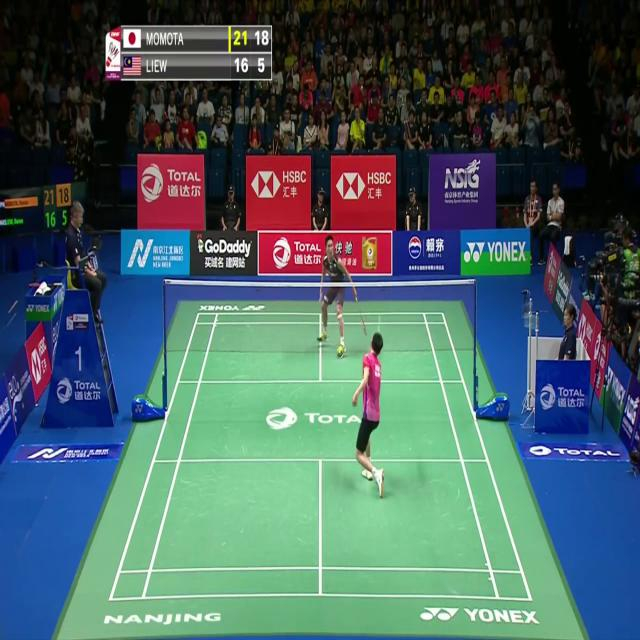Shuttlecock: (376, 320, 383, 332)
